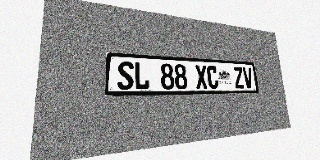8: (160, 63, 175, 89), (174, 64, 188, 89)
C: (206, 65, 219, 89)
L: (134, 62, 150, 90)
S: (117, 61, 134, 90)
V: (242, 67, 254, 88)
X: (195, 65, 208, 89)
Z: (233, 67, 245, 88)
